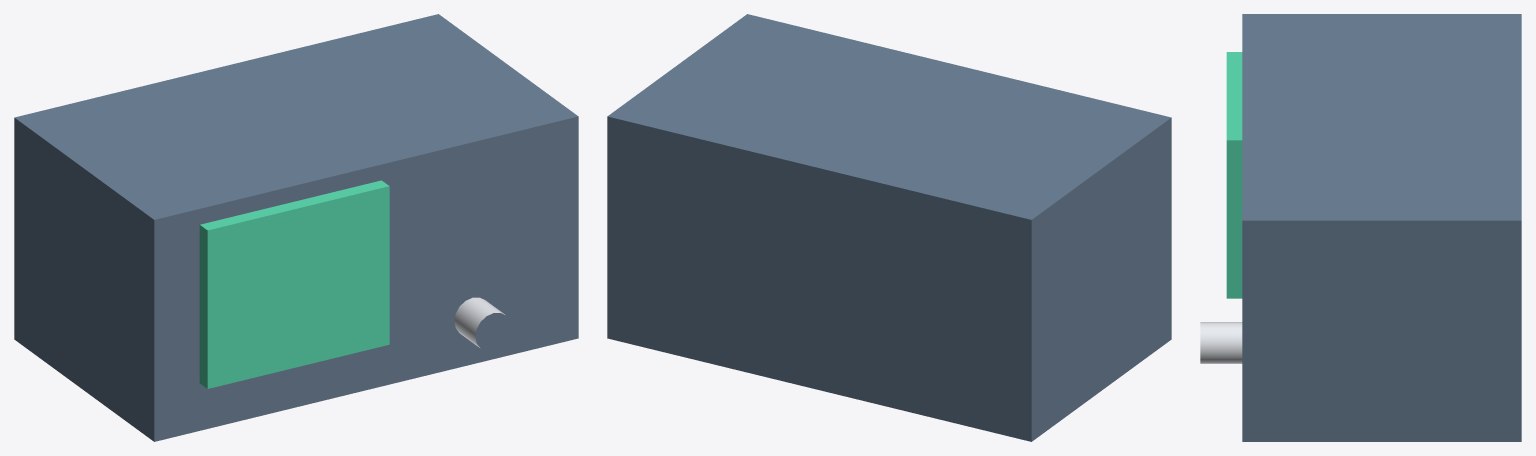
The model's file is digital_modulation_ask_psk_qam.glb.
3 views of the same model, side by side, from view 1: azimuth 30°, elevation 25°; view 2: azimuth 150°, elevation 25°; view 3: azimuth 270°, elevation 25° (orthographic).
Parts seen in each view (by area): view 1: DigitalModulatorChassis, IQConstellationDisplayScreen, VectorSignalAnalyzerBNC; view 2: DigitalModulatorChassis; view 3: DigitalModulatorChassis, IQConstellationDisplayScreen, VectorSignalAnalyzerBNC.
Boxes of the visible parts, box(x1,y1,x2,y2) form: DigitalModulatorChassis: box(14, 14, 578, 441); IQConstellationDisplayScreen: box(199, 180, 389, 388); VectorSignalAnalyzerBNC: box(454, 297, 504, 348); DigitalModulatorChassis: box(607, 14, 1171, 441); DigitalModulatorChassis: box(1242, 14, 1521, 441); IQConstellationDisplayScreen: box(1226, 52, 1242, 298); VectorSignalAnalyzerBNC: box(1200, 322, 1242, 363).
Bounding box in the file's own units: 1.4 × 0.7 × 0.92.
